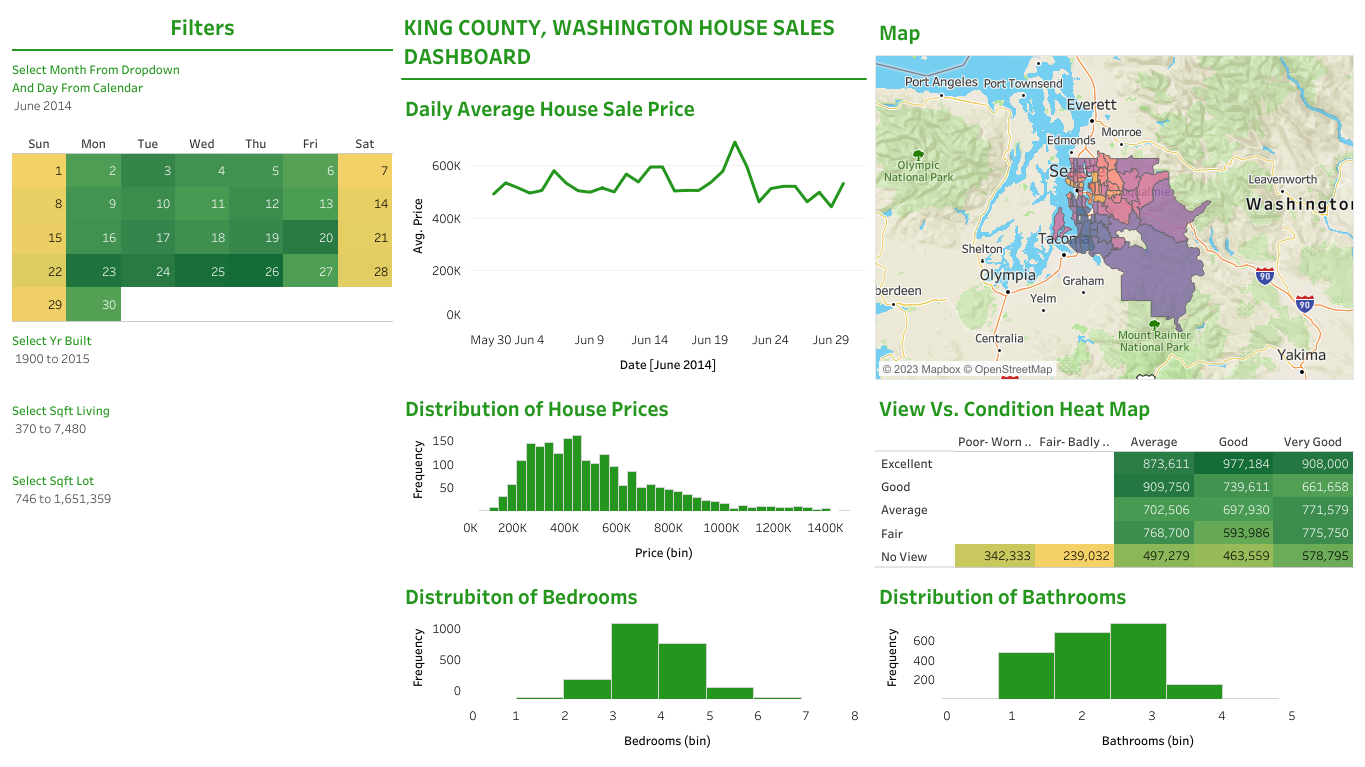

The page's visual inventory and layout, read from the dashboard file:
{"tool":"tableau","page":{"name":"King County House Sales","canvas":[1000,1000],"units":"permille","ordinal":0},"visuals":[{"type":"text","box":[5.9,10.4,284.8,48.2]},{"type":"text","box":[290.6,10.4,347,85.9]},{"type":"worksheet","title":"Map","mark":"Automatic","box":[637.6,10.4,356.5,489.6]},{"type":"blank","box":[5.9,58.6,284.8,13]},{"type":"filter","title":"Calendar","param":"[federated.0x886610hd1q8e1bj0vxz0qc0a1u].[my:date:ok]","box":[5.9,71.6,284.8,89.9]},{"type":"blank","box":[290.6,96.4,347,13]},{"type":"worksheet","title":"Line","mark":"Automatic","rows":["price"],"cols":["date"],"box":[290.6,109.4,347,390.6]},{"type":"worksheet","title":"Calendar","mark":"Square","rows":["date"],"cols":["date"],"box":[5.9,161.5,284.8,256.5]},{"type":"filter","title":"Calendar","param":"[federated.0x886610hd1q8e1bj0vxz0qc0a1u].[none:yr_built:qk]","box":[5.9,418,284.8,66.4]},{"type":"filter","title":"Calendar","param":"[federated.0x886610hd1q8e1bj0vxz0qc0a1u].[none:sqft_living:qk]","box":[5.9,484.4,284.8,66.4]},{"type":"worksheet","title":"Histogram House Price","mark":"Automatic","rows":["price"],"cols":["Price (bin)"],"box":[290.6,500,347,244.8]},{"type":"worksheet","title":"Heat Map","mark":"Square","rows":["view"],"cols":["condition"],"box":[637.6,500,356.5,244.8]},{"type":"filter","title":"Calendar","param":"[federated.0x886610hd1q8e1bj0vxz0qc0a1u].[none:sqft_lot:qk]","box":[5.9,550.8,284.8,66.4]},{"type":"worksheet","title":"Histogram Bedrooms","mark":"Automatic","rows":["bedrooms"],"cols":["Bedrooms (bin)"],"box":[290.6,744.8,347,244.8]},{"type":"worksheet","title":"Histogram Bathrooms","mark":"Automatic","rows":["bathrooms"],"cols":["Bathrooms (bin)"],"box":[637.6,744.8,356.5,244.8]}]}

Visuals, with their boxes on the dashboard's canvas, which has no fixed pixel size, in thousandths of its width and height (x1, y1, x2, y2). These are canvas units, not pixel positions in the 1365x767 screenshot, which may show the page scaled, cropped or inside an application window:
text: [6, 10, 291, 59]
text: [291, 10, 638, 96]
"Map" worksheet: [638, 10, 994, 500]
blank: [6, 59, 291, 72]
"Calendar" filter: [6, 72, 291, 162]
blank: [291, 96, 638, 109]
"Line" worksheet: [291, 109, 638, 500]
"Calendar" worksheet (Square marks): [6, 162, 291, 418]
"Calendar" filter: [6, 418, 291, 484]
"Calendar" filter: [6, 484, 291, 551]
"Histogram House Price" worksheet: [291, 500, 638, 745]
"Heat Map" worksheet (Square marks): [638, 500, 994, 745]
"Calendar" filter: [6, 551, 291, 617]
"Histogram Bedrooms" worksheet: [291, 745, 638, 990]
"Histogram Bathrooms" worksheet: [638, 745, 994, 990]
